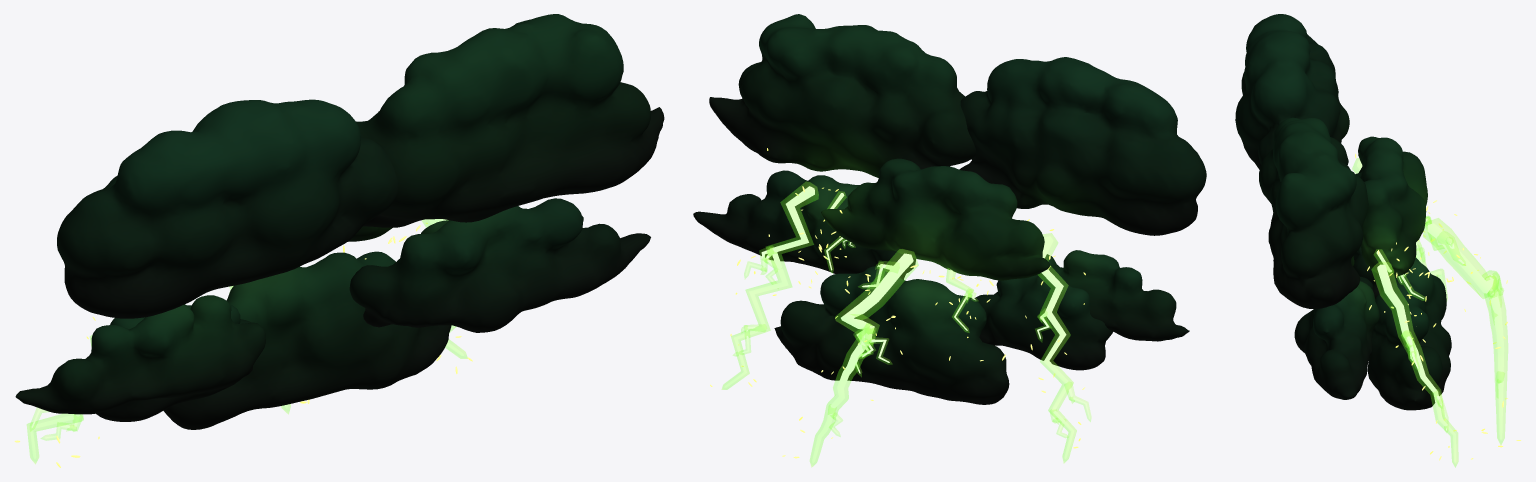
Rendered from storm_venom.glb.
3 views of the same model, side by side, from view 1: azimuth 30°, elevation 25°; view 2: azimuth 150°, elevation 25°; view 3: azimuth 270°, elevation 25° (orthographic). The views are drawn at different scales.
Parts seen in each view (by area): view 1: Clouds, Bolt_4; view 2: Clouds, Bolt_3, Bolt_1, Bolt_4, Bolt_5, Bolt_2; view 3: Clouds, Bolt_3, Bolt_1, Bolt_2, Bolt_4.
Part boxes in pixels (x1,y1,x2,y2): Clouds: (15, 14, 664, 429); Bolt_4: (14, 317, 99, 467); Clouds: (693, 14, 1206, 404); Bolt_3: (782, 249, 918, 466); Bolt_1: (710, 148, 838, 389); Bolt_4: (1002, 219, 1091, 462); Bolt_5: (922, 268, 993, 361); Bolt_2: (795, 187, 855, 286); Clouds: (1235, 14, 1451, 410); Bolt_3: (1423, 218, 1520, 447); Bolt_1: (1367, 242, 1473, 467); Bolt_2: (1369, 246, 1436, 327); Bolt_4: (1352, 153, 1448, 299).
Size of the model in its own units: 15.46 by 10.72 by 8.13.
